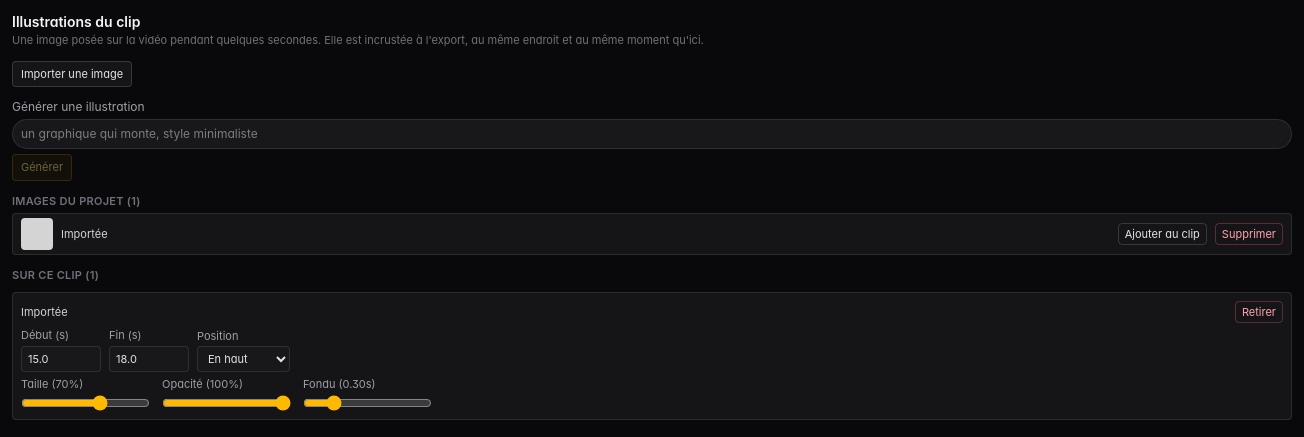
Scenario: IllustrationsPanel › deletes an image from the project and from the clip at once
The width and height of the screenshot is (1304, 437).
Click the button with aria-label "Supprimer l'image".
click(1249, 234)  # box [1215,223,1283,245]
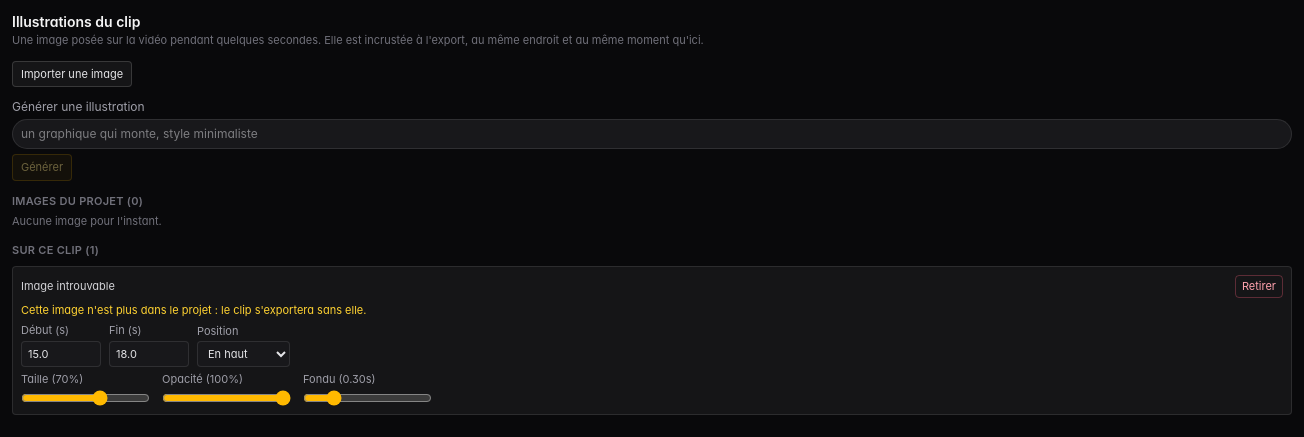
expect the heading "Images du projet (0)" is shown: met, box [12,194,143,208]
